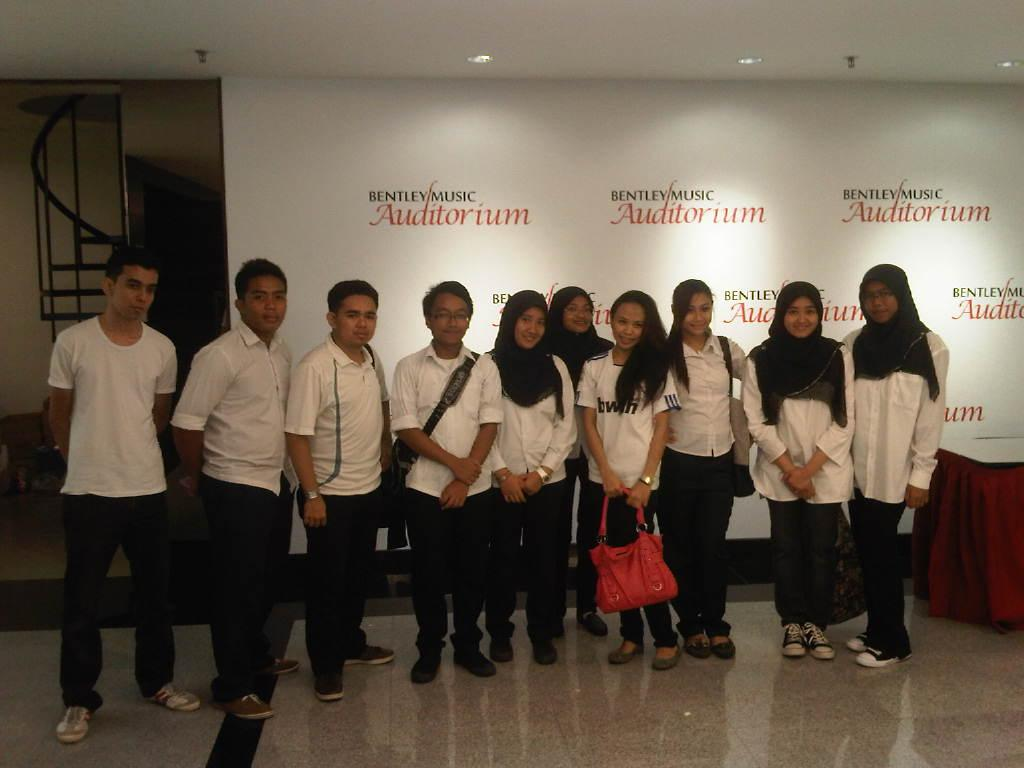face: (115, 270, 155, 323), (245, 282, 283, 331), (337, 301, 376, 343), (433, 300, 469, 343), (613, 307, 645, 349), (863, 287, 898, 323), (782, 302, 819, 335), (516, 309, 545, 348), (682, 299, 712, 335), (564, 299, 592, 332)
